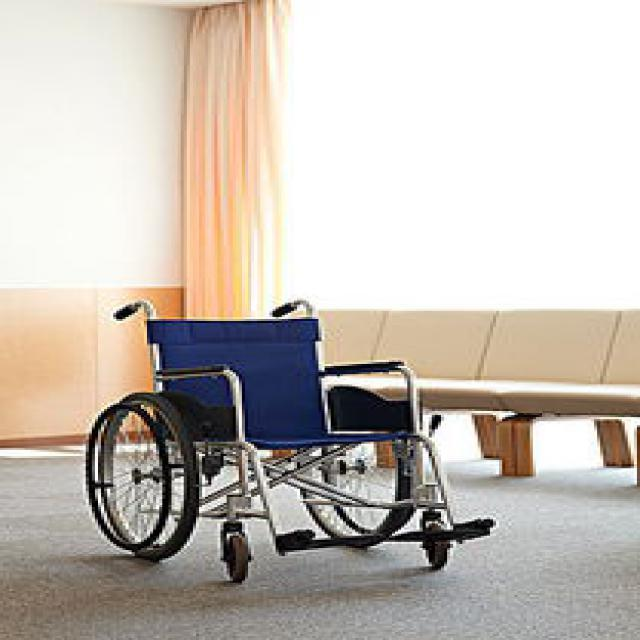wheelchair: (86, 292, 500, 593)
